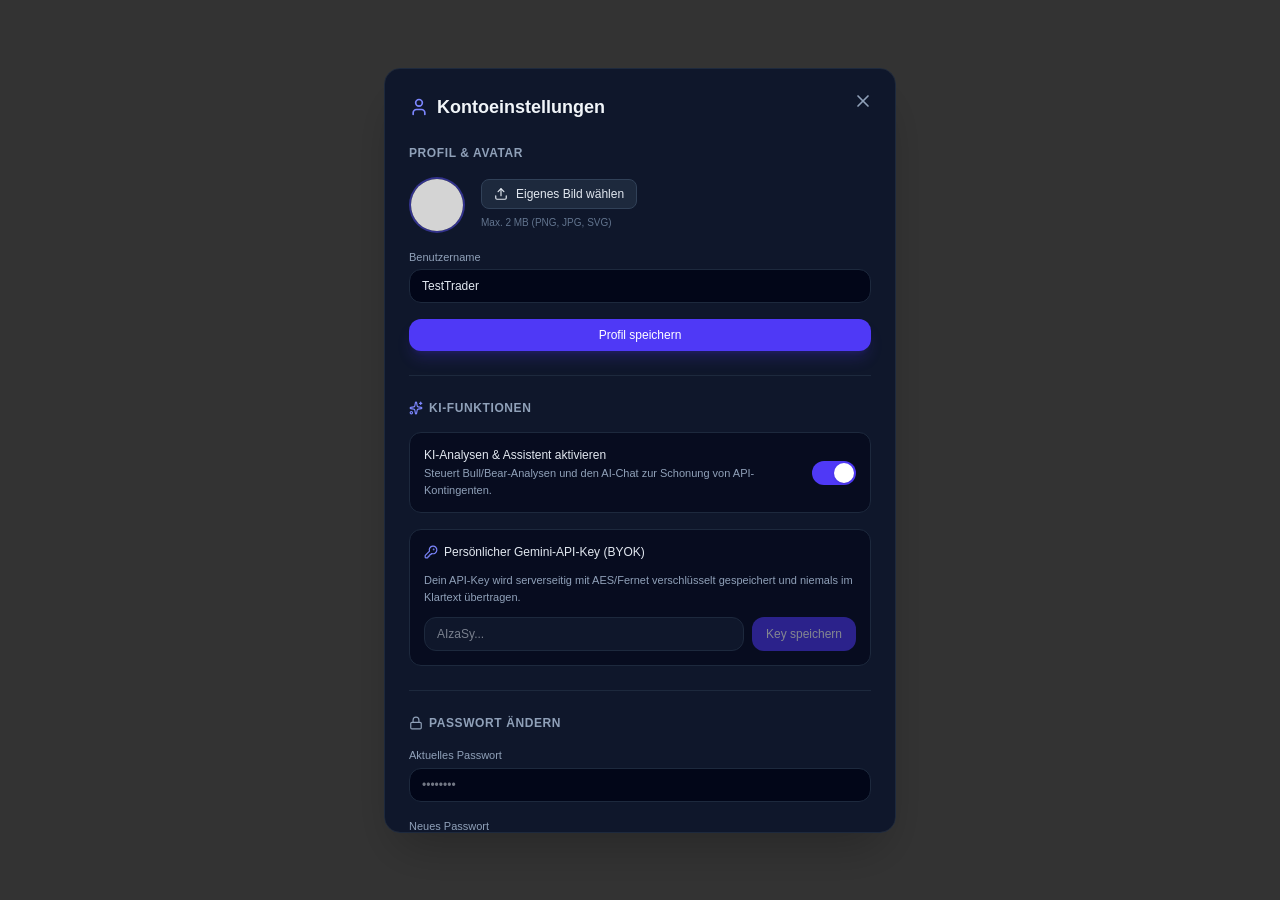
SettingsModal Component (AI Toggle & BYOK) › zeigt eine Fehlermeldung an, wenn der eingegebene API-Key ungültig ist
The width and height of the screenshot is (1280, 900).
Type "AIzaSy_INVALID_KEY" into the password field named "Gemini API-Key". click: (584, 634)
box: [424,617,744,651]
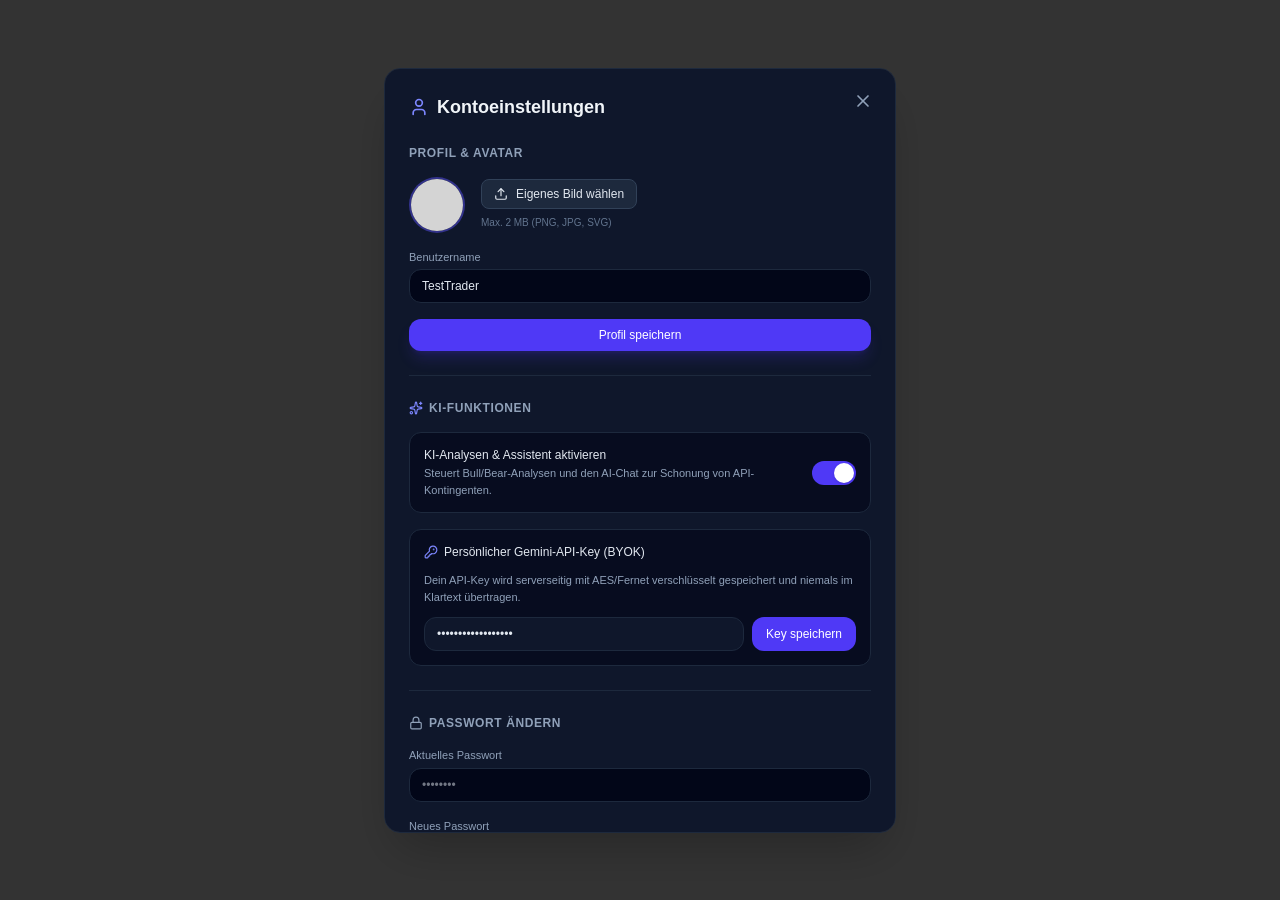
Click the button "Key speichern". click: (804, 634)
box: [752,617,856,651]
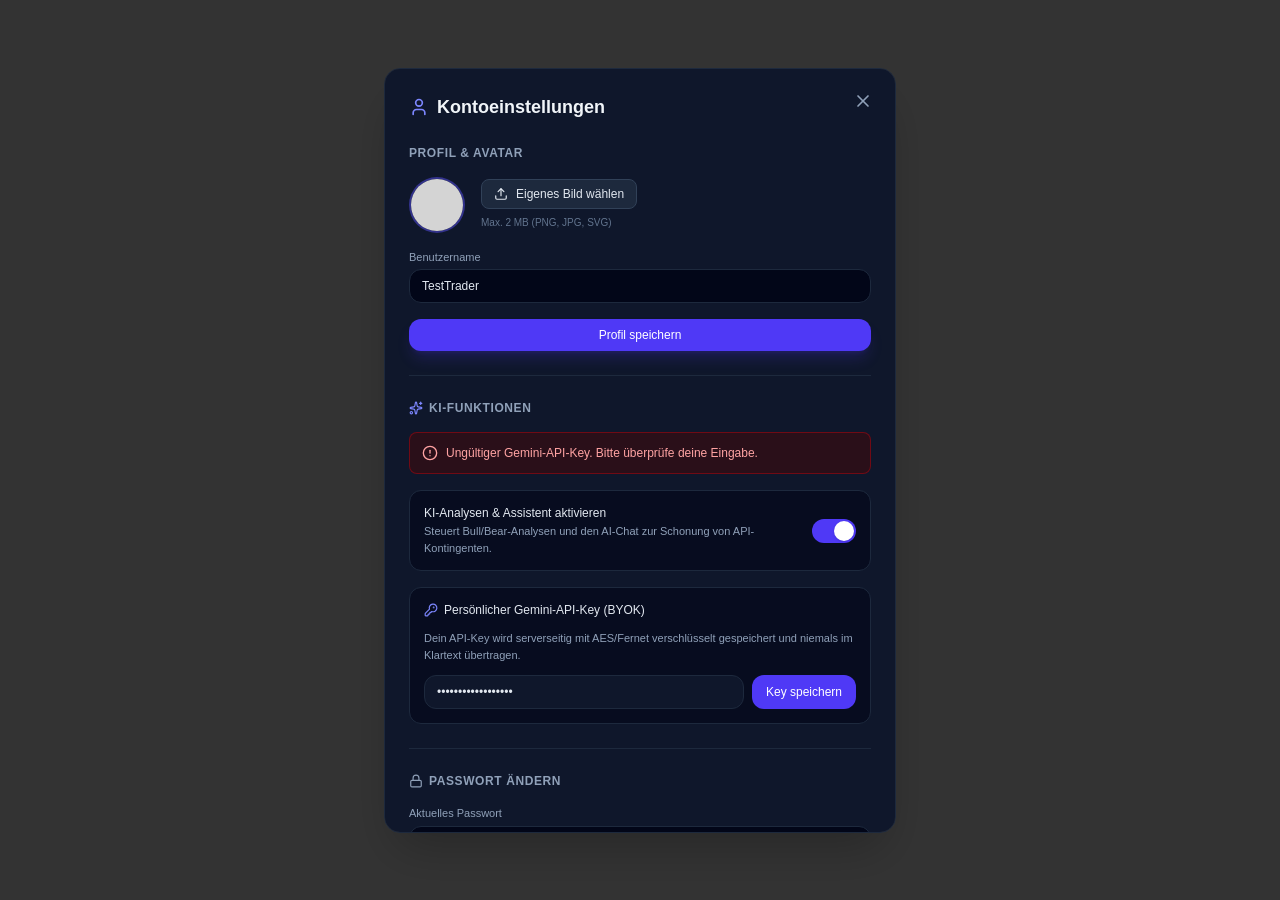
Expected: the text "Ungültiger Gemini-API-Key. Bitte überprüfe deine Eingabe." is shown, [446,445,758,461]
